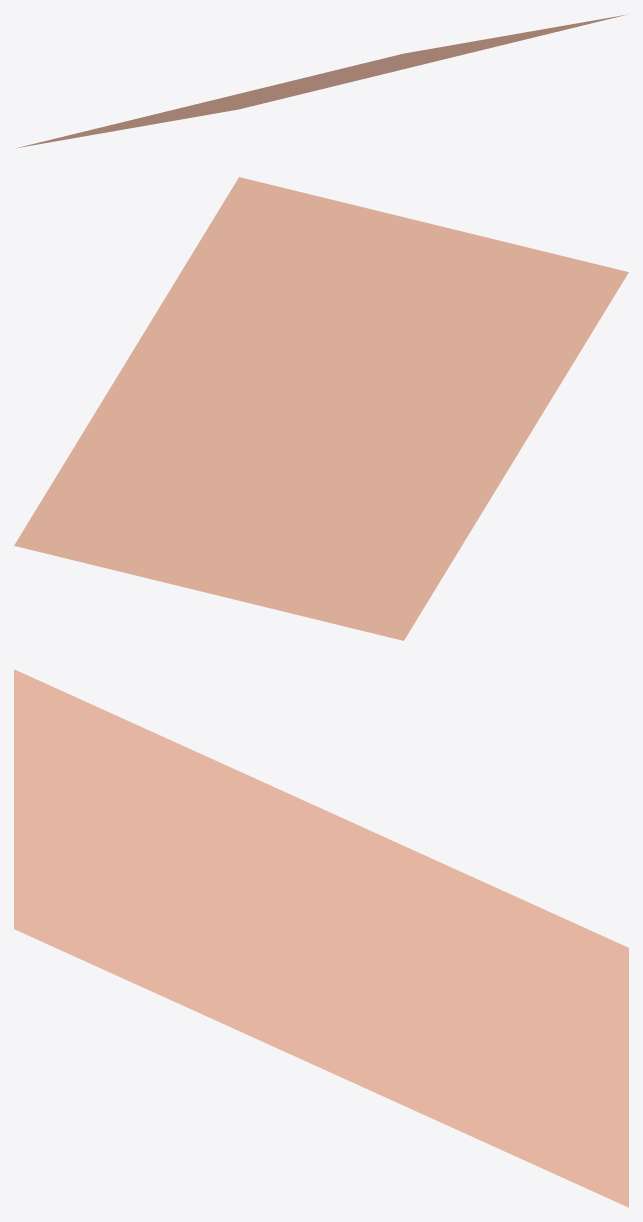
Rendered from terrain_side.glb.
The picture shows the model from 3 angles, top to bottom: view 1: azimuth 30°, elevation 25°; view 2: azimuth 150°, elevation 25°; view 3: azimuth 270°, elevation 25°; orthographic projection. The views are drawn at different scales.
Visible parts, largest first — view 1: terrain_side; view 2: terrain_side; view 3: terrain_side.
Part boxes in pixels (x1,y1,x2,y2): terrain_side: (16,14,626,148); terrain_side: (14,177,628,640); terrain_side: (14,669,628,1207).
Bounding box in the file's own units: 1 × 0.5 × 1.
